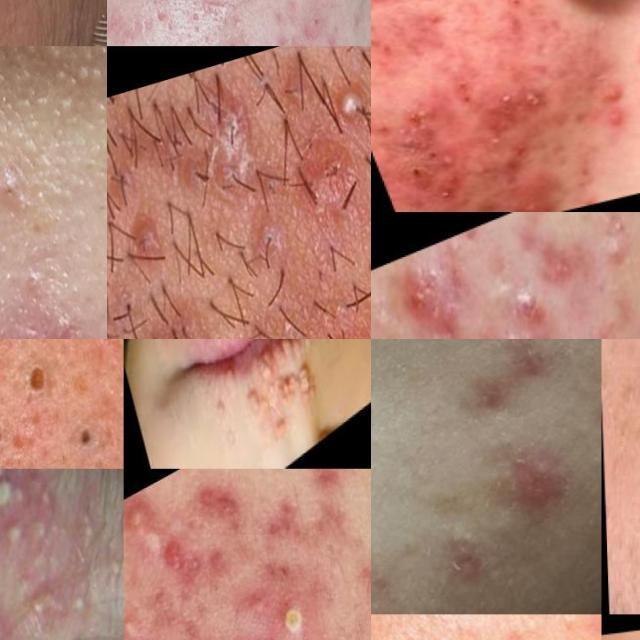acne_scars: (461, 339, 577, 427), (160, 526, 214, 596), (258, 488, 310, 546), (143, 0, 178, 38), (242, 621, 293, 640), (215, 32, 250, 46), (282, 33, 308, 46)
comedone: (59, 391, 124, 465), (610, 372, 640, 471), (12, 342, 54, 396), (371, 389, 400, 436), (446, 520, 479, 556), (548, 614, 585, 640), (225, 0, 263, 22)
cystic: (486, 163, 570, 212), (595, 74, 631, 111)
flat_wart: (196, 339, 355, 468)
folliculitis: (316, 59, 371, 149)
papule: (382, 258, 455, 337), (504, 452, 579, 524), (0, 291, 107, 339), (0, 168, 34, 232)
pustule: (3, 562, 74, 640), (52, 569, 111, 640), (62, 489, 113, 554), (268, 583, 322, 640), (88, 538, 124, 602), (0, 507, 38, 564), (0, 468, 24, 519), (0, 468, 17, 489)
sebo-crystan-conglo: (124, 491, 172, 574), (372, 105, 445, 158)
